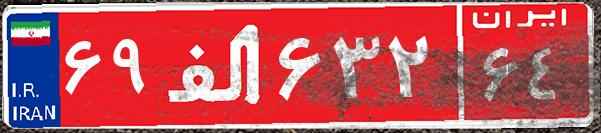2: (385, 28, 445, 110)
3: (330, 28, 385, 110)
4: (525, 38, 570, 115)
6: (273, 28, 330, 110), (57, 26, 110, 107), (475, 38, 525, 113)
9: (110, 28, 158, 105)
الف: (158, 15, 273, 115)
